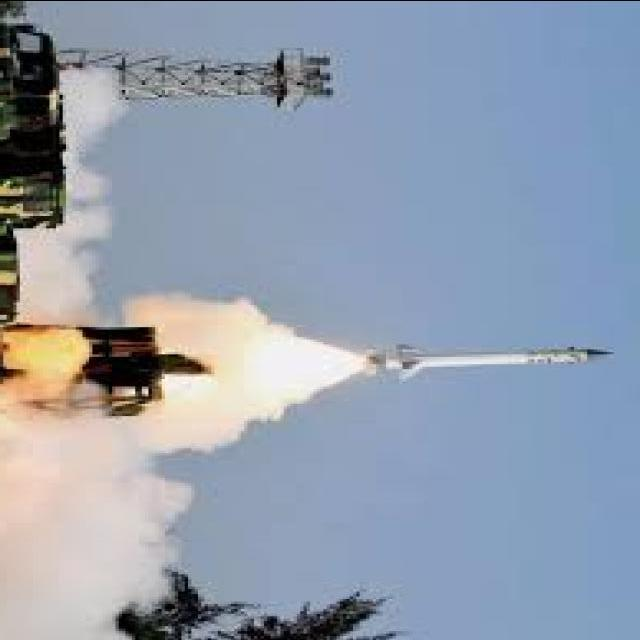Missile: (355, 335, 626, 382)
